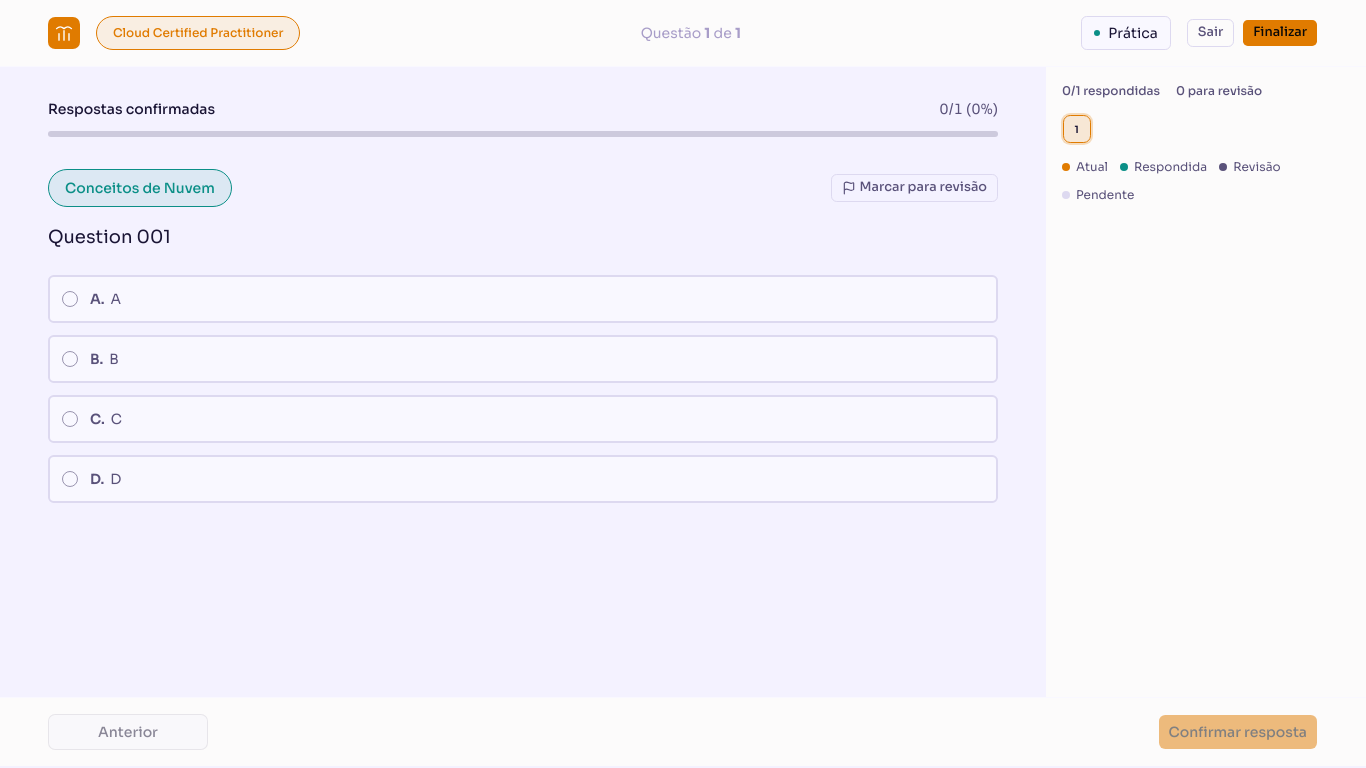
Test: QuizLayout › exibe questão marcada e botão principal habilitado para confirmar resposta
Click the radio button labelled "a. A": (70, 299) [48,275,998,323]
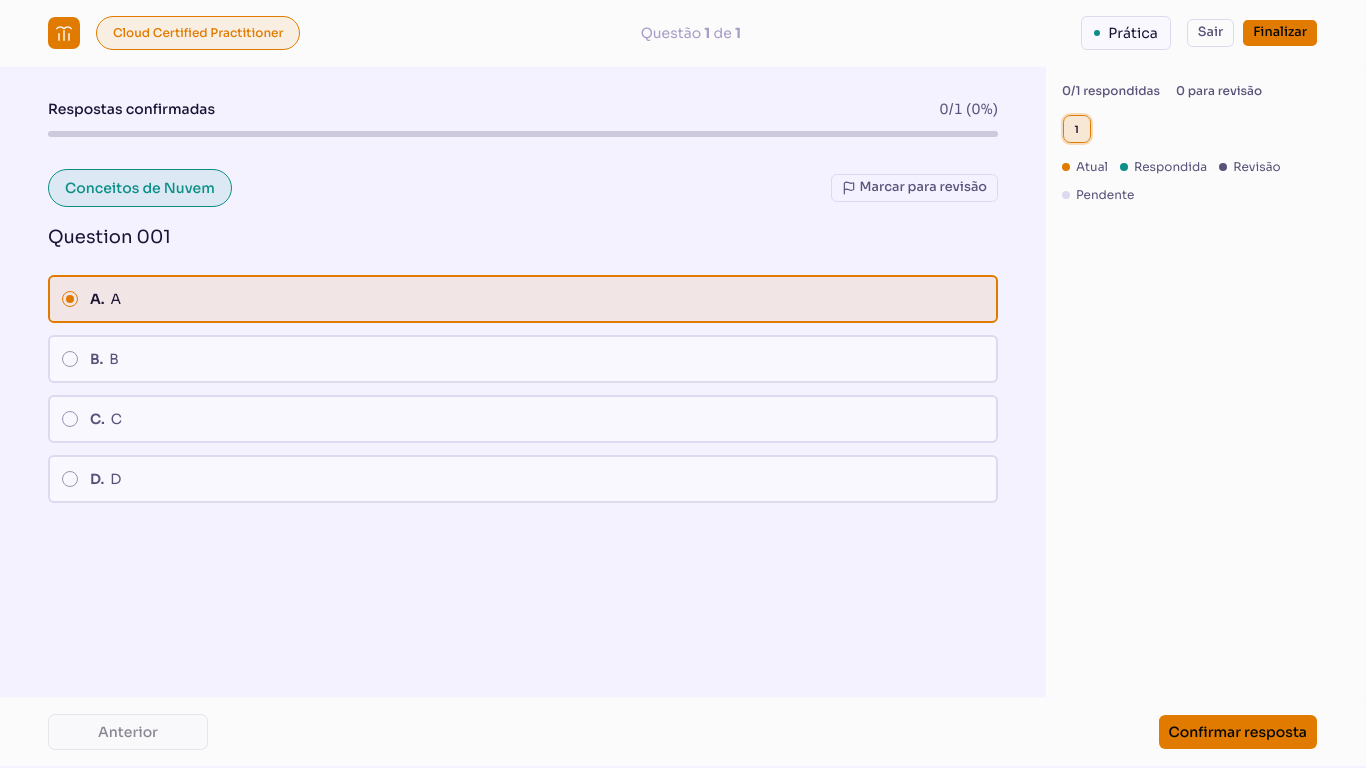
Expected: the radio button labelled "a. A" is checked, [48,275,998,323]
Expected: the button "Confirmar resposta" is enabled, [1158,714,1318,750]
